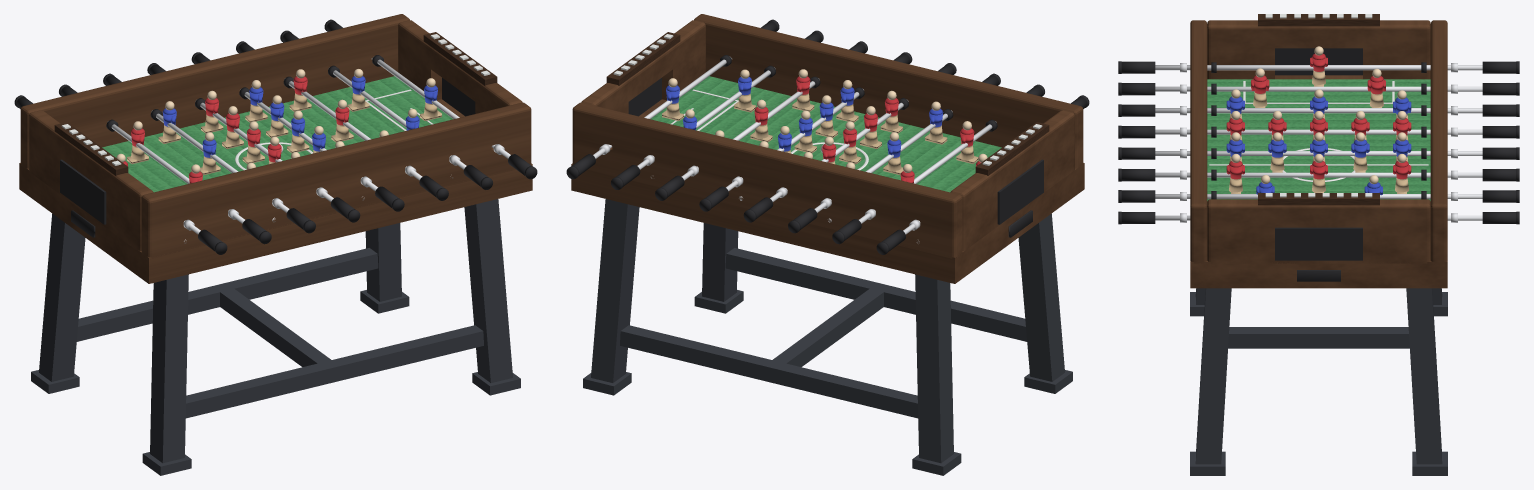
Rendered from FoosballTable.fbx.
The picture shows the model from 3 angles, left to right: view 1: azimuth 30°, elevation 25°; view 2: azimuth 150°, elevation 25°; view 3: azimuth 270°, elevation 25°; orthographic projection.
Parts seen in each view (by area): view 1: Rail_Lm, Rail_Lp, Skirt, Field, Brace_X, Leg, Leg.002, Brace_X.001, Rail_Sm, Leg.001, Rail_Sp, Brace_Y (+23 smaller); view 2: Rail_Lp, Rail_Lm, Skirt, Field, Brace_X.001, Leg.001, Leg.003, Brace_X, Rail_Sm, Leg, Rail_Sp, Brace_Y (+24 smaller); view 3: Field, Rail_Sp, Rail_Sm, Skirt, Leg.002, Leg.003, Rail_Lp, Rail_Lm, Brace_Y, GoalBack.001, GoalBack, Rod_0 (+33 smaller).
Part boxes in pixels (x1,y1,x2,y2): Rail_Lm: (141,102,531,258); Rail_Lp: (20,14,409,168); Skirt: (19,163,532,283); Field: (102,76,453,192); Brace_X: (185,325,483,418); Leg: (150,274,188,463); Leg.002: (464,199,512,382); Brace_X.001: (76,248,378,341); Rail_Sm: (29,110,153,251); Leg.001: (39,213,85,381); Rail_Sp: (398,20,522,117); Brace_Y: (216,286,331,367); Rail_Lp: (572,102,962,258); Rail_Lm: (694,14,1083,168); Skirt: (571,163,1084,283); Field: (650,76,1001,192); Brace_X.001: (620,325,918,418); Leg.001: (915,274,953,463); Leg.003: (591,199,639,382); Brace_X: (725,248,1027,341); Rail_Sm: (950,110,1074,250); Leg: (1018,213,1064,381); Rail_Sp: (581,20,705,117); Brace_Y: (772,286,887,367); Field: (1207,79,1430,200); Rail_Sp: (1207,199,1430,263); Rail_Sm: (1207,20,1430,79); Skirt: (1190,261,1447,288); Leg.002: (1195,288,1231,464); Leg.003: (1406,288,1442,464); Rail_Lp: (1430,20,1447,263); Rail_Lm: (1190,20,1207,263); Brace_Y: (1228,327,1409,348); GoalBack.001: (1275,227,1362,260); GoalBack: (1275,48,1362,75); Rod_0: (1155,65,1482,70).
Bounding box in the file's own units: 131 × 92.67 × 118.
Materials: 18 (9 with a texture image).
